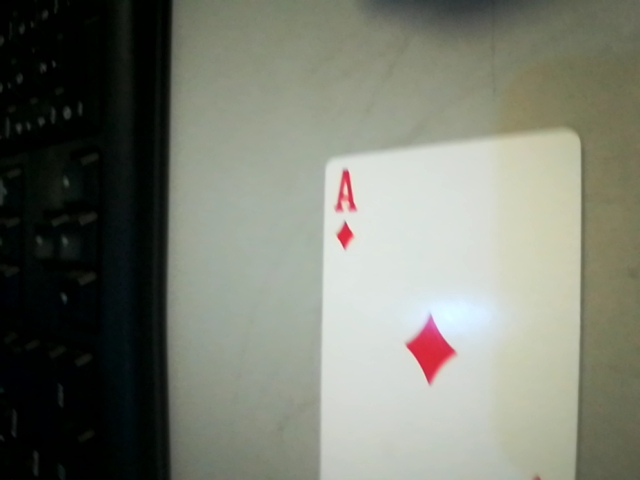fk a: (318, 162, 367, 256)
